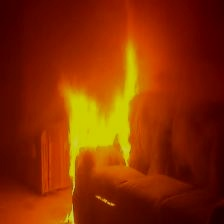fire: (51, 35, 162, 212)
